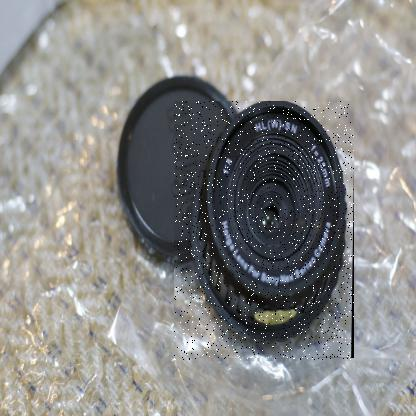Camera: (175, 103, 356, 363)
